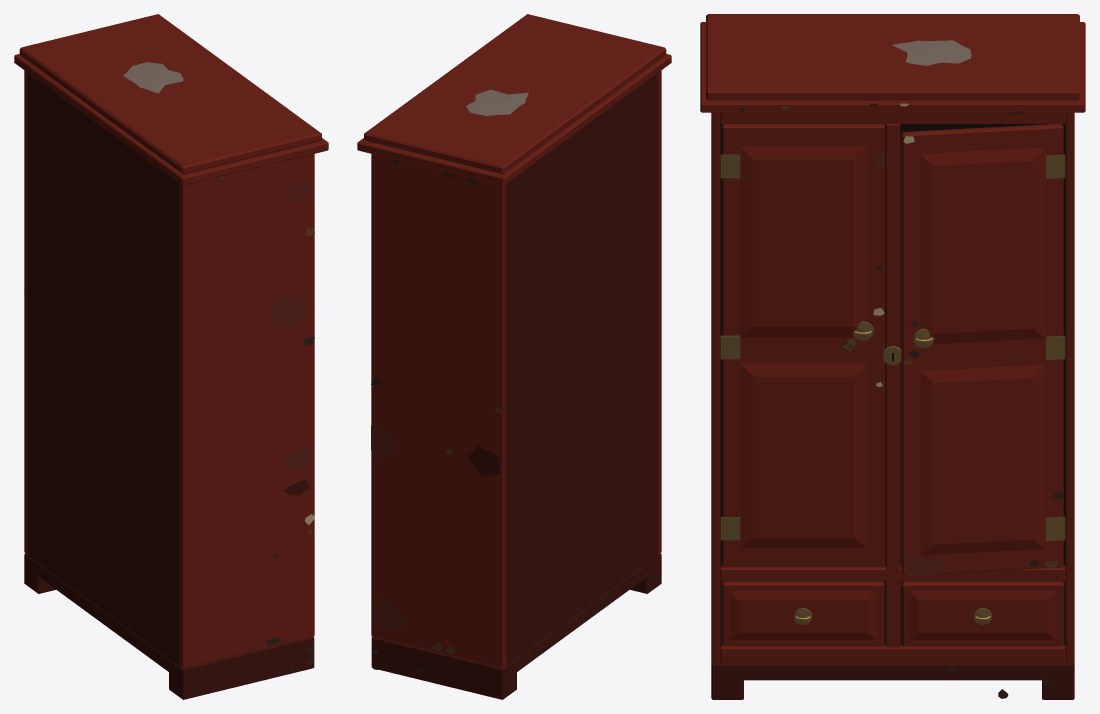
Rendered from cabinet_vermilion.glb.
3 views of the same model, side by side, from view 1: azimuth 30°, elevation 25°; view 2: azimuth 150°, elevation 25°; view 3: azimuth 270°, elevation 25° (orthographic). The views are drawn at different scales.
Parts seen in each view (by area): view 1: teil1, teil0, teil9, teil11; view 2: teil1, teil0, teil9, teil11; view 3: teil1, teil0, teil2, teil5, teil11, teil3, teil9.
Boxes of the visible parts, x1=… form: teil1: x1=14, y1=14, x2=328, y2=668; teil0: x1=24, y1=73, x2=314, y2=699; teil9: x1=269, y1=181, x2=313, y2=472; teil11: x1=123, y1=62, x2=183, y2=93; teil1: x1=357, y1=14, x2=671, y2=668; teil0: x1=371, y1=73, x2=661, y2=699; teil9: x1=371, y1=424, x2=407, y2=631; teil11: x1=466, y1=89, x2=528, y2=115; teil1: x1=700, y1=14, x2=1085, y2=663; teil0: x1=711, y1=564, x2=1074, y2=699; teil2: x1=720, y1=123, x2=1065, y2=645; teil5: x1=720, y1=154, x2=1065, y2=541; teil11: x1=892, y1=40, x2=971, y2=65; teil3: x1=794, y1=321, x2=991, y2=624; teil9: x1=872, y1=153, x2=944, y2=575.
Size of the model in its own units: 0.5759 by 1.86 by 1.06.
